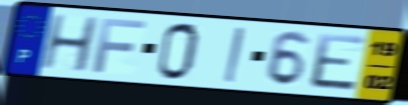0: (155, 21, 203, 82)
6: (263, 29, 311, 88)
E: (308, 31, 369, 93)
F: (91, 17, 149, 75)
H: (38, 13, 101, 74)
I: (222, 25, 247, 85)
